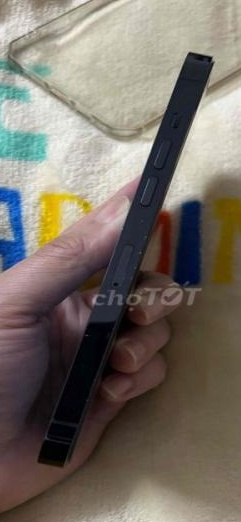scratch: (105, 207, 153, 335)
